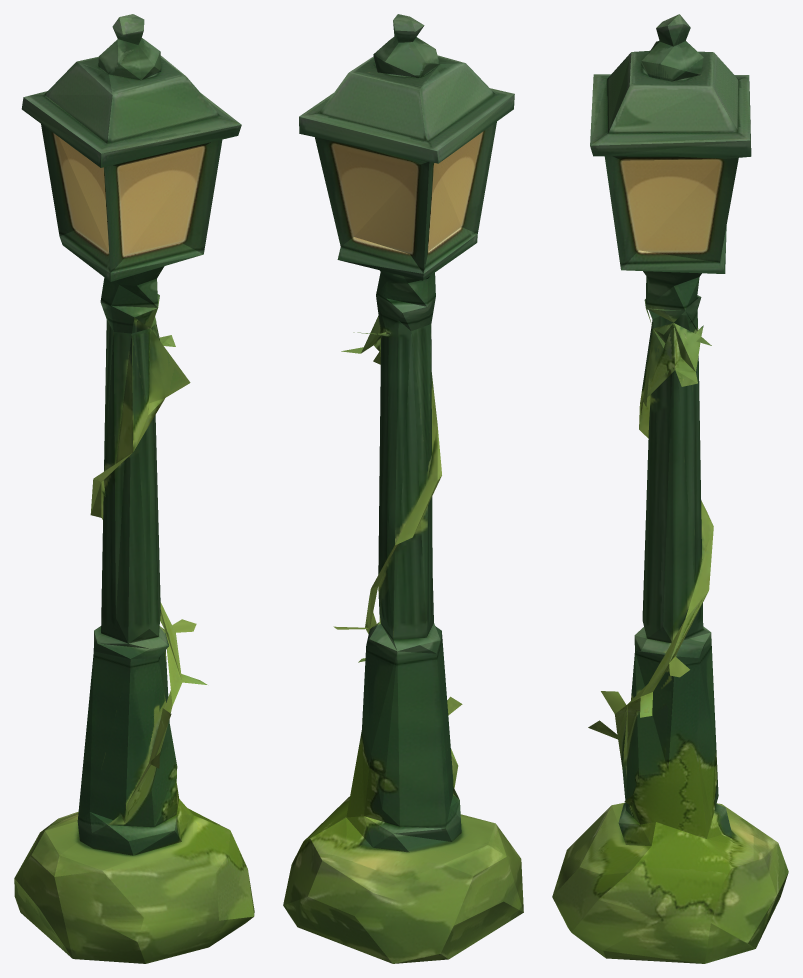
Rendered from meshy.glb.
3 renders of one model, left to right at view 1: azimuth 30°, elevation 25°; view 2: azimuth 150°, elevation 25°; view 3: azimuth 270°, elevation 25°, orthographic.
Bounding box in the file's own units: 0.4215 × 1.89 × 0.4508.
1 material, 1 textured.
